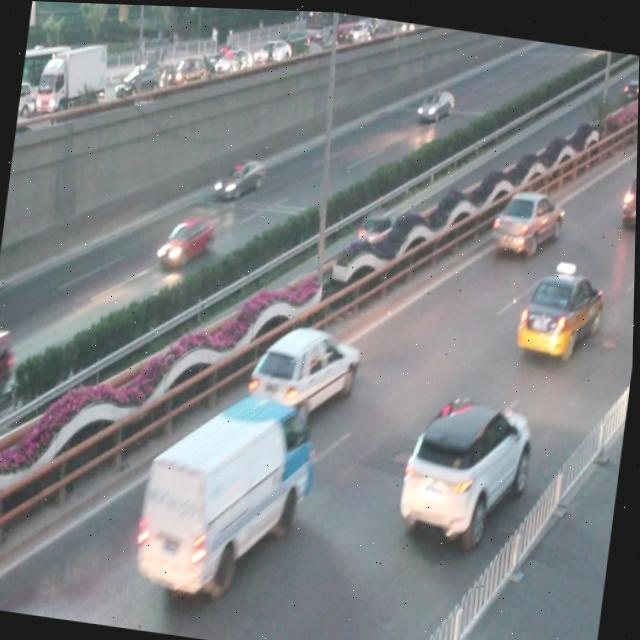car: (394, 382, 536, 546), (245, 316, 363, 423), (514, 256, 607, 360), (487, 178, 568, 262), (156, 207, 216, 273), (211, 149, 268, 205), (353, 199, 405, 248), (414, 81, 455, 125), (617, 157, 638, 224)
truck: (131, 386, 318, 604), (0, 315, 21, 409)
